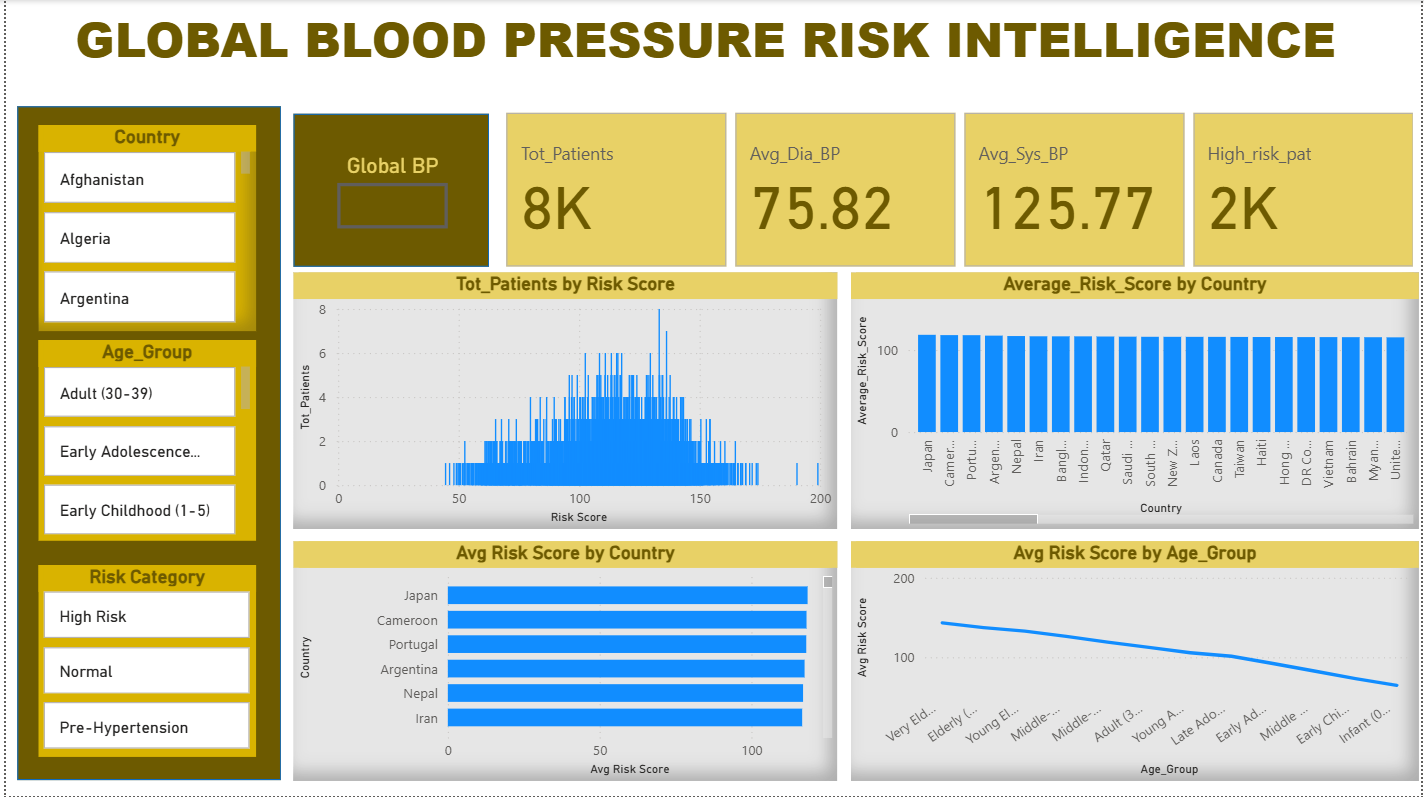

The page's visual inventory and layout, read from the dashboard file:
{"tool":"powerbi","page":{"name":"Deep Analysis","canvas":[1280,720],"ordinal":1},"visuals":[{"type":"textbox","box":[0,0,1280,77.5],"z":0},{"type":"shape","box":[10.1,96.3,238.6,609.5],"z":1000},{"type":"advancedSlicerVisual","fields":{"Values":["blood_pressure_global_dataset.Country"]},"box":[29.9,113.4,196.8,186.1],"z":2000},{"type":"advancedSlicerVisual","fields":{"Values":["blood_pressure_global_dataset.Age_Group"]},"box":[29.9,308,196.8,181.8],"z":3000},{"type":"advancedSlicerVisual","fields":{"Values":["blood_pressure_global_dataset.Risk Category"]},"box":[29.9,511.2,196.8,173.3],"z":4000},{"type":"cardVisual","fields":{"Data":["blood_pressure_global_dataset.Tot_Patients","blood_pressure_global_dataset.Avg_Dia_BP","blood_pressure_global_dataset.Avg_Sys_BP","blood_pressure_global_dataset.High_risk_pat"]},"box":[447.7,96.9,830.8,149.2],"z":5000},{"type":"columnChart","fields":{"Y":["blood_pressure_global_dataset.Tot_Patients"],"Category":["blood_pressure_global_dataset.Risk Score"]},"box":[260,246.2,492.3,232.3],"z":6000},{"type":"barChart","fields":{"Category":["blood_pressure_global_dataset.Country"],"Y":["blood_pressure_global_dataset.Avg Risk Score"]},"box":[260,489.2,492.3,216.9],"z":7000},{"type":"clusteredColumnChart","fields":{"Category":["blood_pressure_global_dataset.Country"],"Y":["blood_pressure_global_dataset.Average_Risk_Score"]},"box":[764.6,246.2,513.8,232.3],"z":8000},{"type":"lineChart","fields":{"Category":["blood_pressure_global_dataset.Age_Group"],"Y":["blood_pressure_global_dataset.Avg Risk Score"]},"box":[764.6,489.2,513.8,216.9],"z":9000},{"type":"shape","box":[260,103.1,176.9,138.5],"z":10000},{"type":"actionButton","title":"Global BP","box":[300,138.9,100,67.8],"z":11000}]}

Visuals, with their boxes in screenshot pixels (x1, y1, x2, y2), scaled from the page's 1280x720 canvas onto the 1424x797 screenshot:
textbox: [x1=0, y1=0, x2=1423, y2=86]
shape: [x1=11, y1=107, x2=277, y2=781]
advancedSlicerVisual - blood_pressure_global_dataset.Country: [x1=33, y1=126, x2=252, y2=332]
advancedSlicerVisual - blood_pressure_global_dataset.Age_Group: [x1=33, y1=341, x2=252, y2=542]
advancedSlicerVisual - blood_pressure_global_dataset.Risk Category: [x1=33, y1=566, x2=252, y2=758]
cardVisual - blood_pressure_global_dataset.Tot_Patients x blood_pressure_global_dataset.Avg_Dia_BP: [x1=498, y1=107, x2=1422, y2=272]
columnChart - blood_pressure_global_dataset.Tot_Patients x blood_pressure_global_dataset.Risk Score: [x1=289, y1=273, x2=837, y2=530]
barChart - blood_pressure_global_dataset.Country x blood_pressure_global_dataset.Avg Risk Score: [x1=289, y1=542, x2=837, y2=782]
clusteredColumnChart - blood_pressure_global_dataset.Country x blood_pressure_global_dataset.Average_Risk_Score: [x1=851, y1=273, x2=1422, y2=530]
lineChart - blood_pressure_global_dataset.Age_Group x blood_pressure_global_dataset.Avg Risk Score: [x1=851, y1=542, x2=1422, y2=782]
shape: [x1=289, y1=114, x2=486, y2=267]
"Global BP" actionButton: [x1=334, y1=154, x2=445, y2=229]
